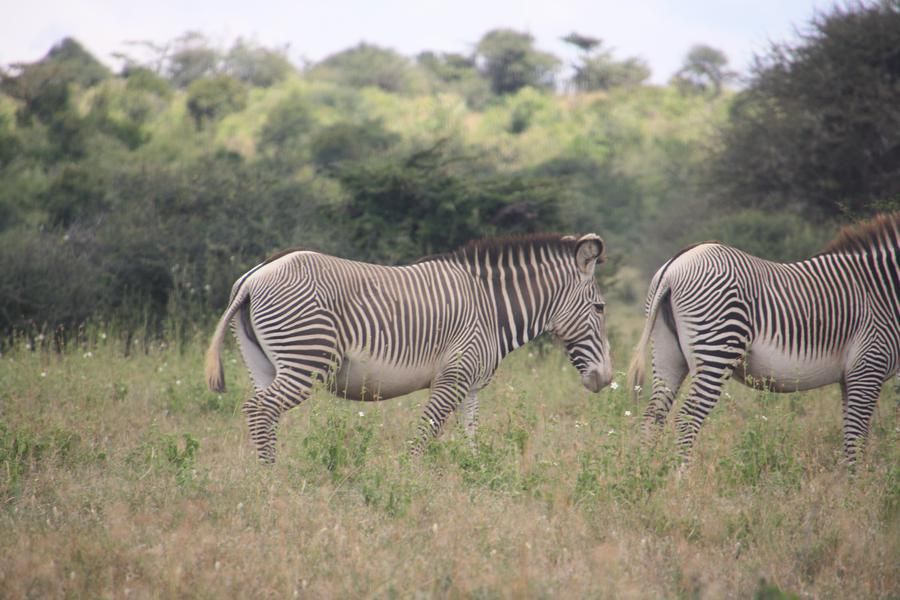zebra_grevys: (241, 246, 481, 392)
